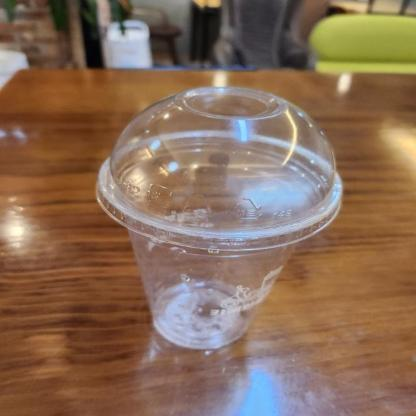Plastic Cup: (97, 88, 339, 348)
